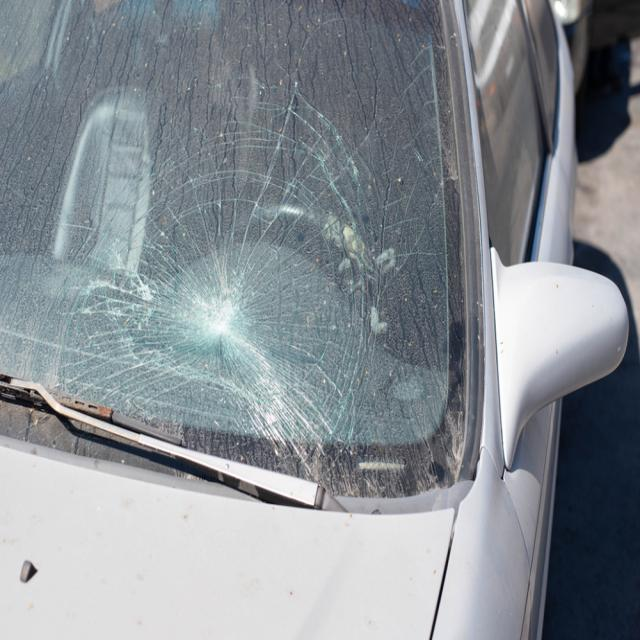Fissure: (40, 53, 449, 456)
